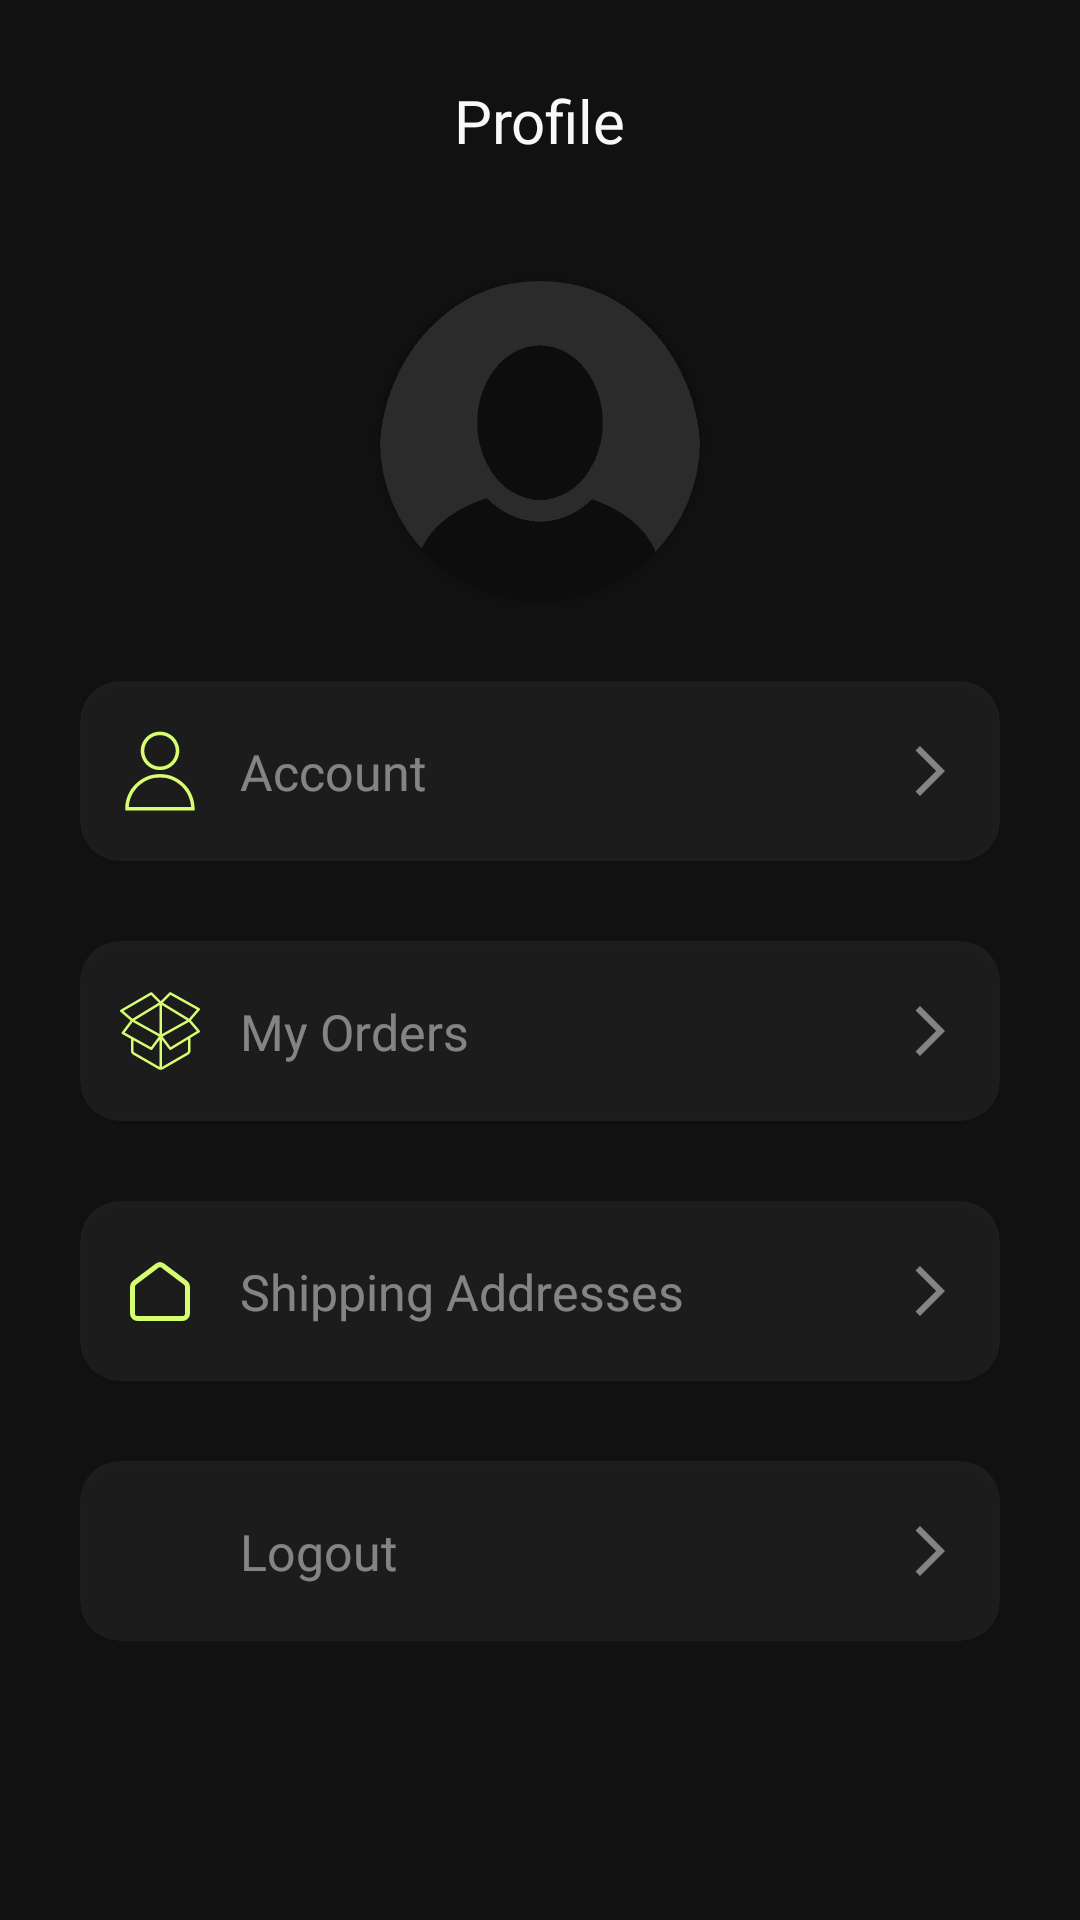

Screen size 1080*1920. Icon name, then its center in pixels as (x,y):
arrow forward: (930,771), (930,1031), (930,1291), (930,1551)
home: (160,1291)
orders box open: (160,1031)
profile: (160,771)
